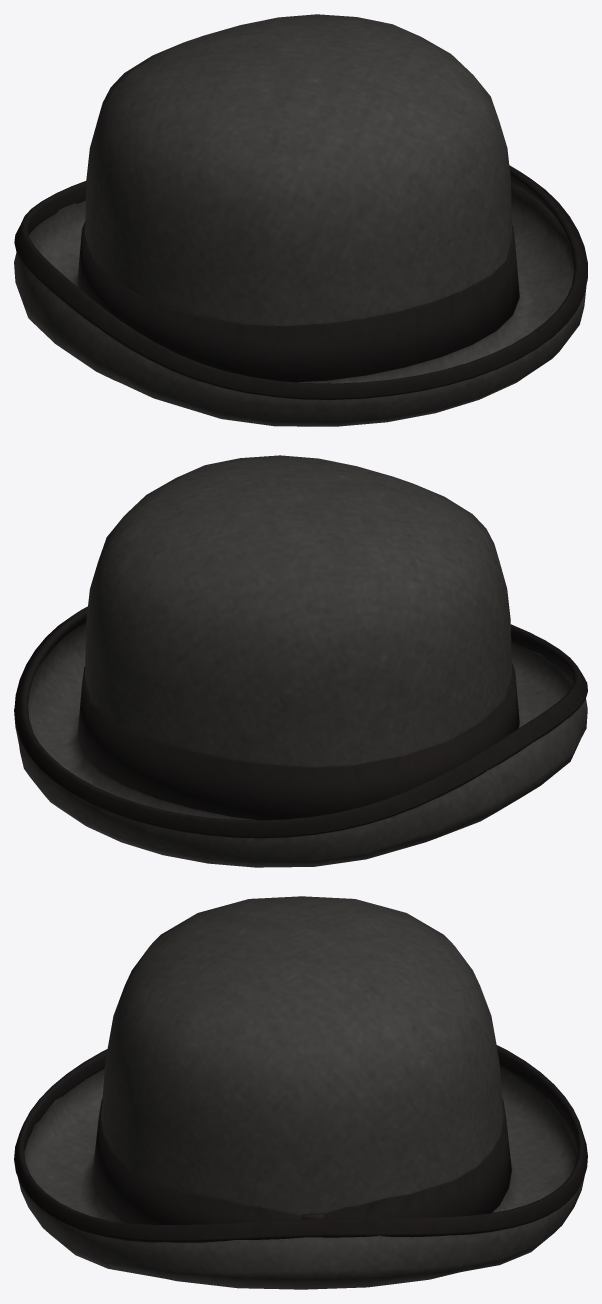
File: ChristmasRoom_HatD.fbx
The picture shows the model from 3 angles, top to bottom: view 1: azimuth 30°, elevation 25°; view 2: azimuth 150°, elevation 25°; view 3: azimuth 270°, elevation 25°; orthographic projection.
Visible parts, largest first — view 1: ChristmasRoom_HatD; view 2: ChristmasRoom_HatD; view 3: ChristmasRoom_HatD.
Boxes of the visible parts, <box> form: ChristmasRoom_HatD: <box>14,14,587,426</box>; ChristmasRoom_HatD: <box>14,455,587,867</box>; ChristmasRoom_HatD: <box>14,896,587,1289</box>.
Bounding box in the file's own units: 22.53 × 11.75 × 23.16.
